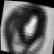correct: (0, 0, 49, 54)
